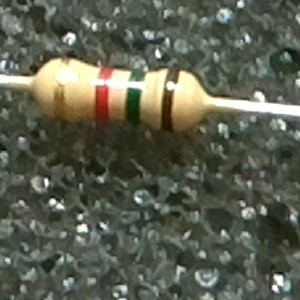brown_band: (157, 66, 182, 134)
gold_band: (48, 56, 73, 124)
green_band: (121, 67, 150, 126)
red_band: (92, 66, 116, 123)
